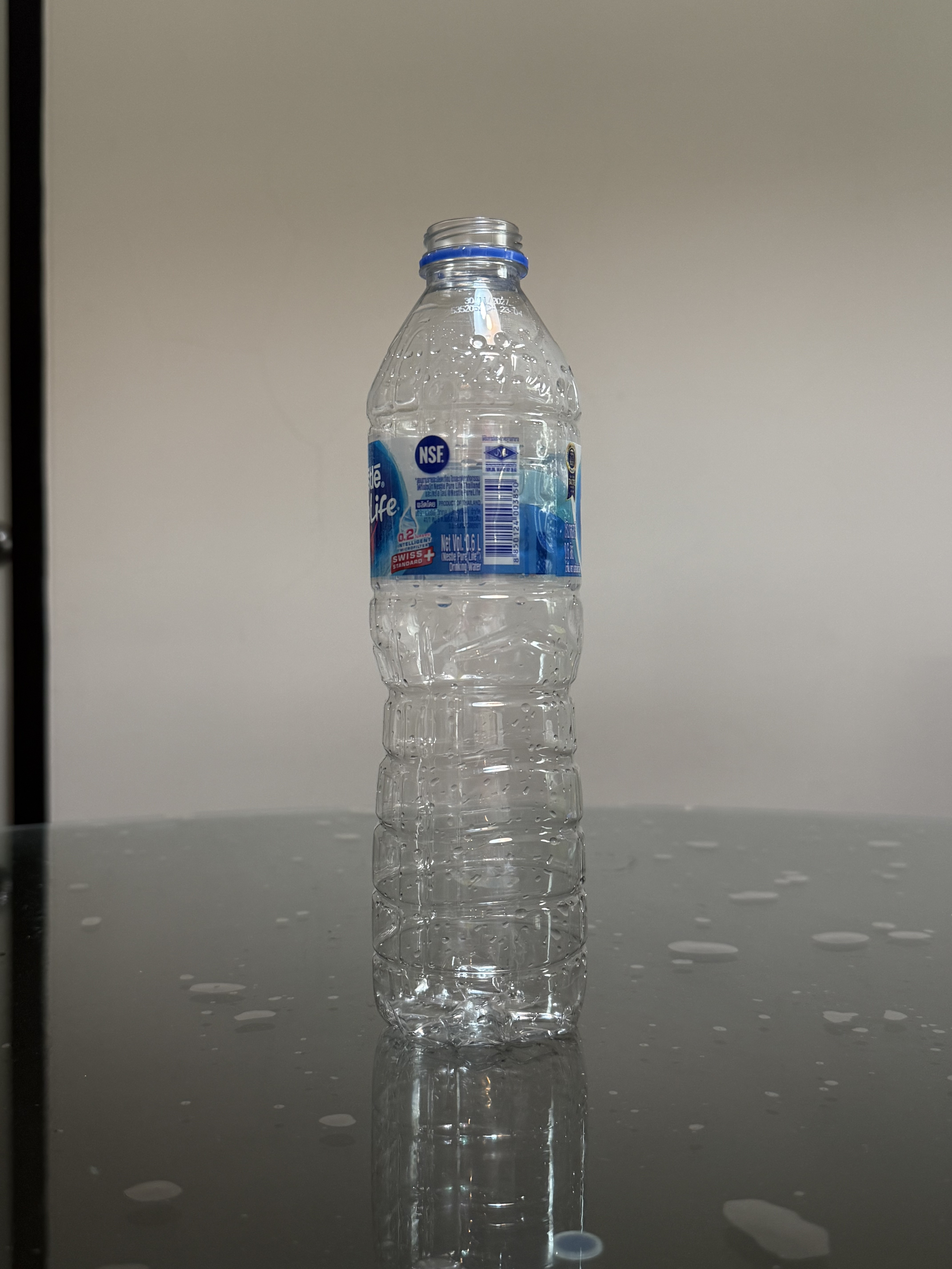no_cap: (418, 213, 530, 268)
